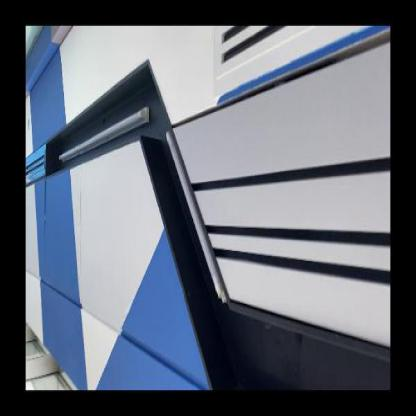light_off: (164, 92, 233, 318), (55, 88, 152, 176)
